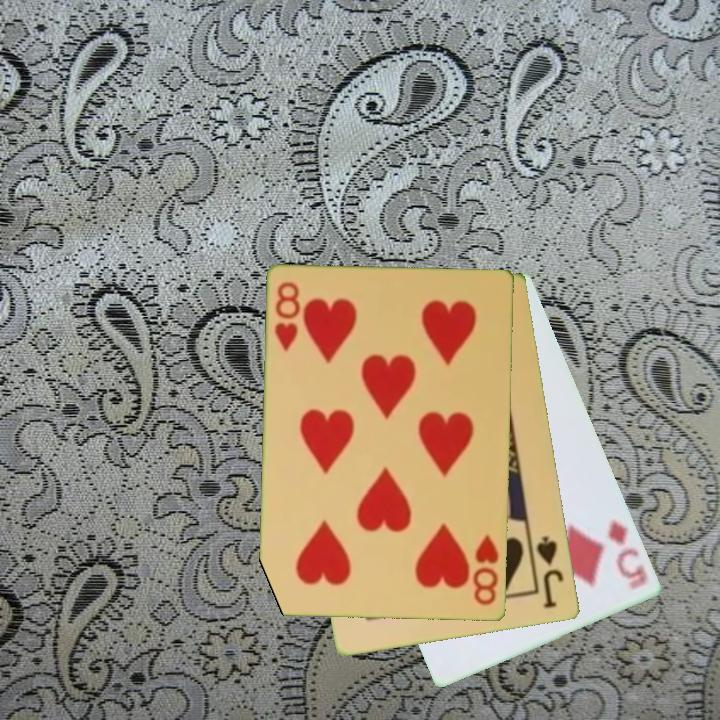5d: (605, 516, 648, 593)
8h: (470, 531, 502, 609), (271, 278, 303, 355)
Js: (533, 532, 567, 611)
